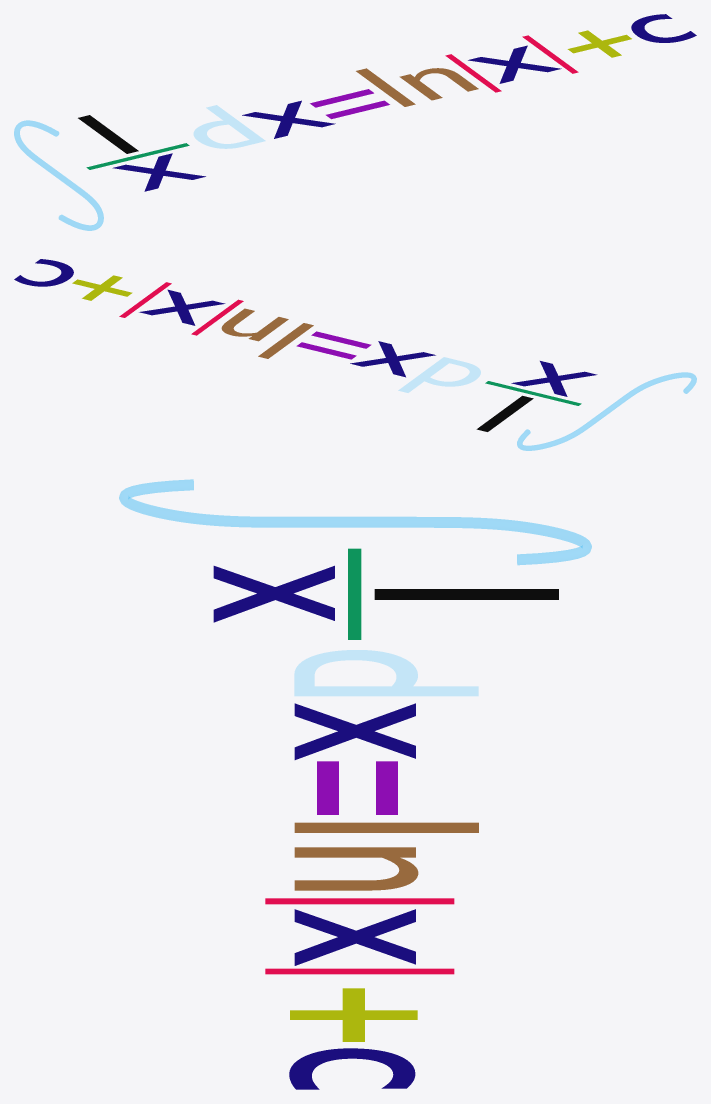
File: int1pex.glb
3 renders of one model, top to bottom at view 1: azimuth 30°, elevation 25°; view 2: azimuth 150°, elevation 25°; view 3: azimuth 270°, elevation 25°, orthographic. The views are drawn at different scales.
Parts seen in each view (by area): view 1: int din 1 pe x dx; view 2: int din 1 pe x dx; view 3: int din 1 pe x dx.
Part boxes in pixels (x1=…): int din 1 pe x dx: x1=14, y1=14, x2=696, y2=230; int din 1 pe x dx: x1=14, y1=259, x2=696, y2=450; int din 1 pe x dx: x1=119, y1=479, x2=591, y2=1089.
Bounding box in the file's own units: 5.32 × 0.0401 × 1.75.
